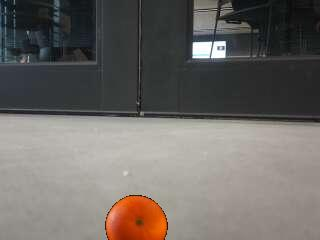Orange: (106, 193, 167, 240)
